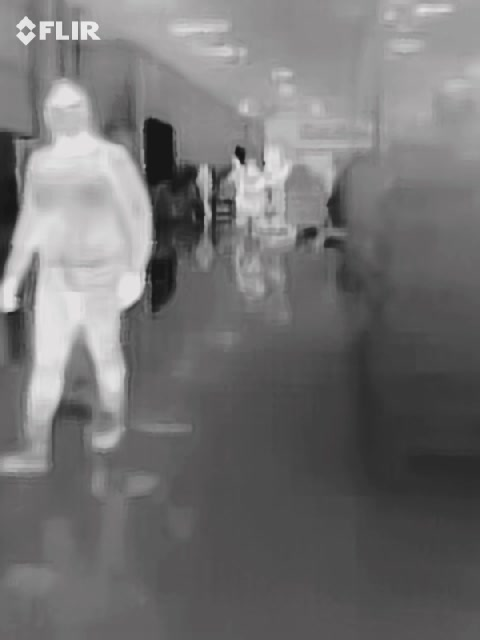head: (39, 77, 90, 142)
